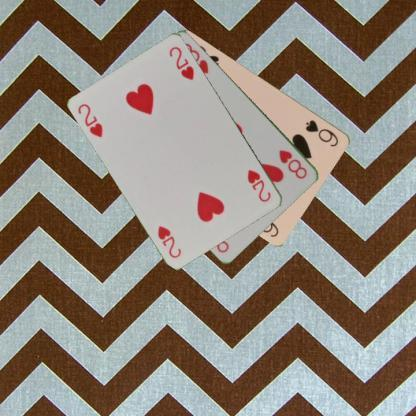2h: (75, 101, 105, 138), (245, 167, 272, 203)
6s: (302, 116, 340, 148)
8h: (276, 147, 309, 181)
